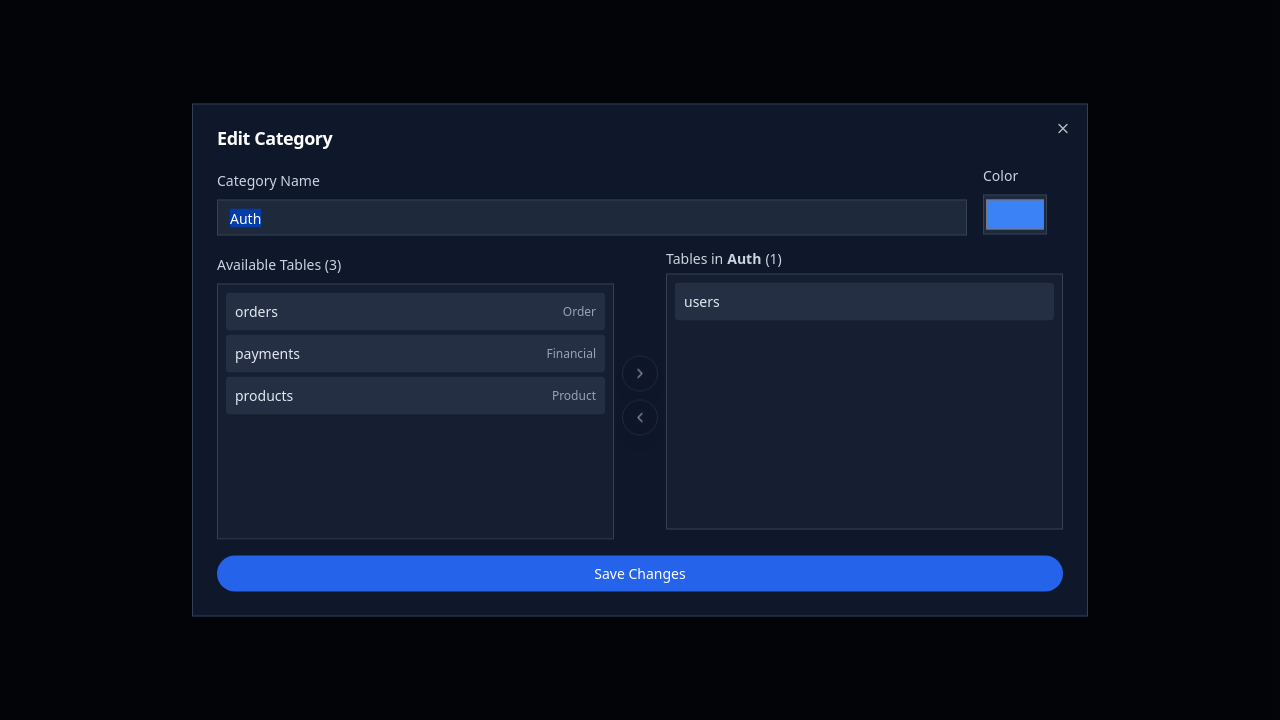
Test: CategoryEditDialog › Save Functionality › should disable save button when category name is empty
Clear the field labelled "Category Name" at point(592, 218), box x1=217 y1=200 x2=967 y2=236
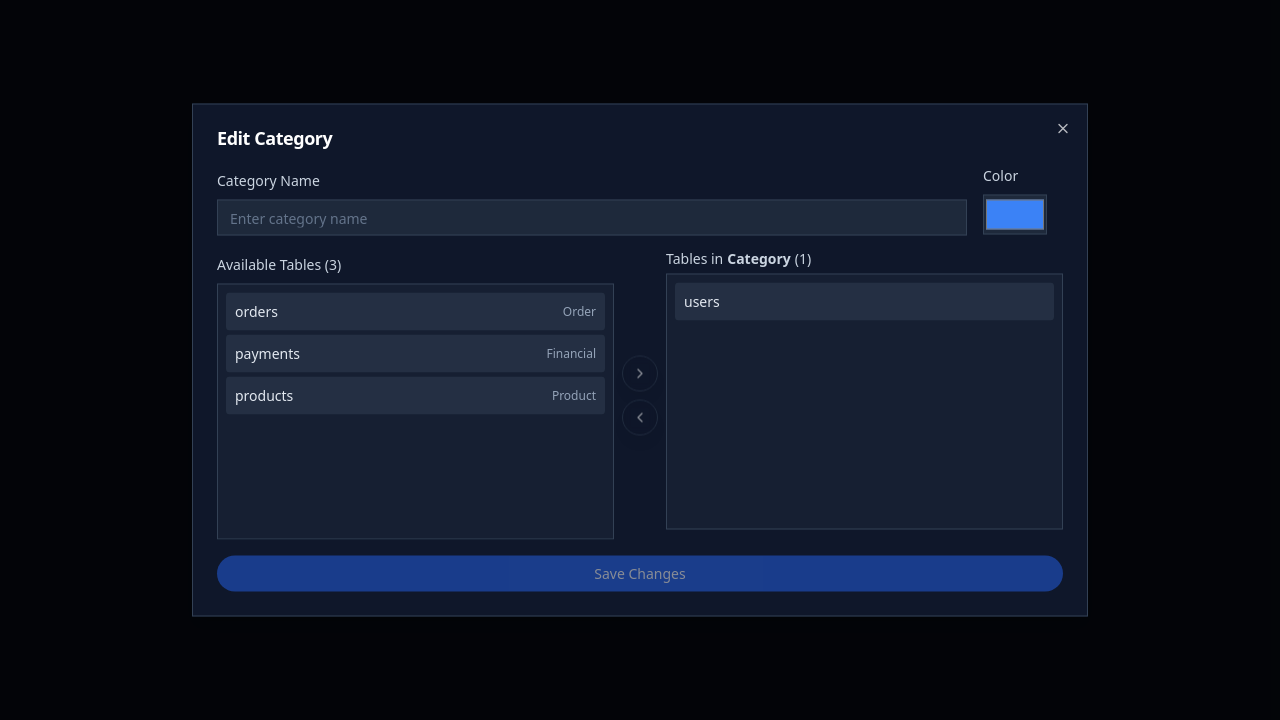
Result: the button "Save Changes" is disabled at x1=217 y1=556 x2=1063 y2=592
